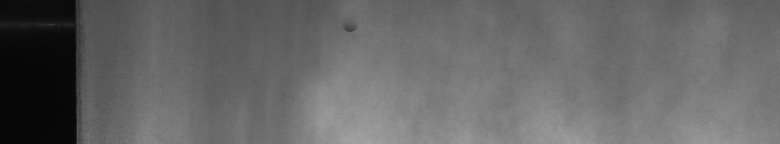fi: (343, 24, 360, 40)
